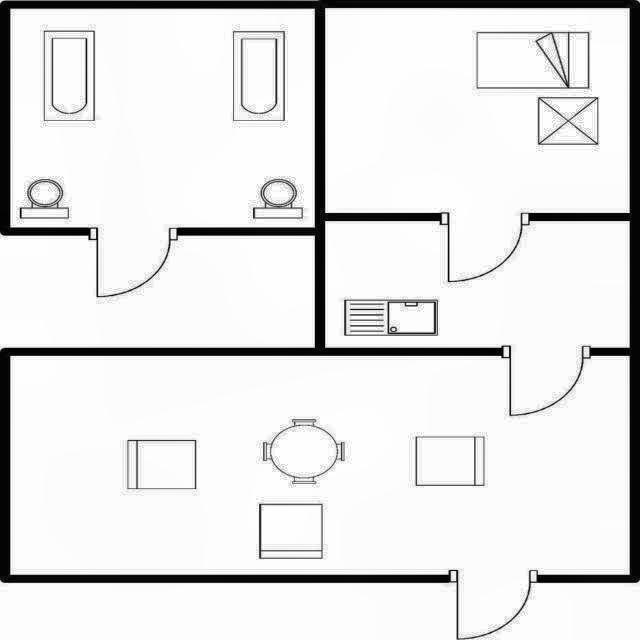room: (10, 356, 630, 575), (10, 8, 314, 227), (325, 8, 630, 213), (325, 222, 629, 347)
